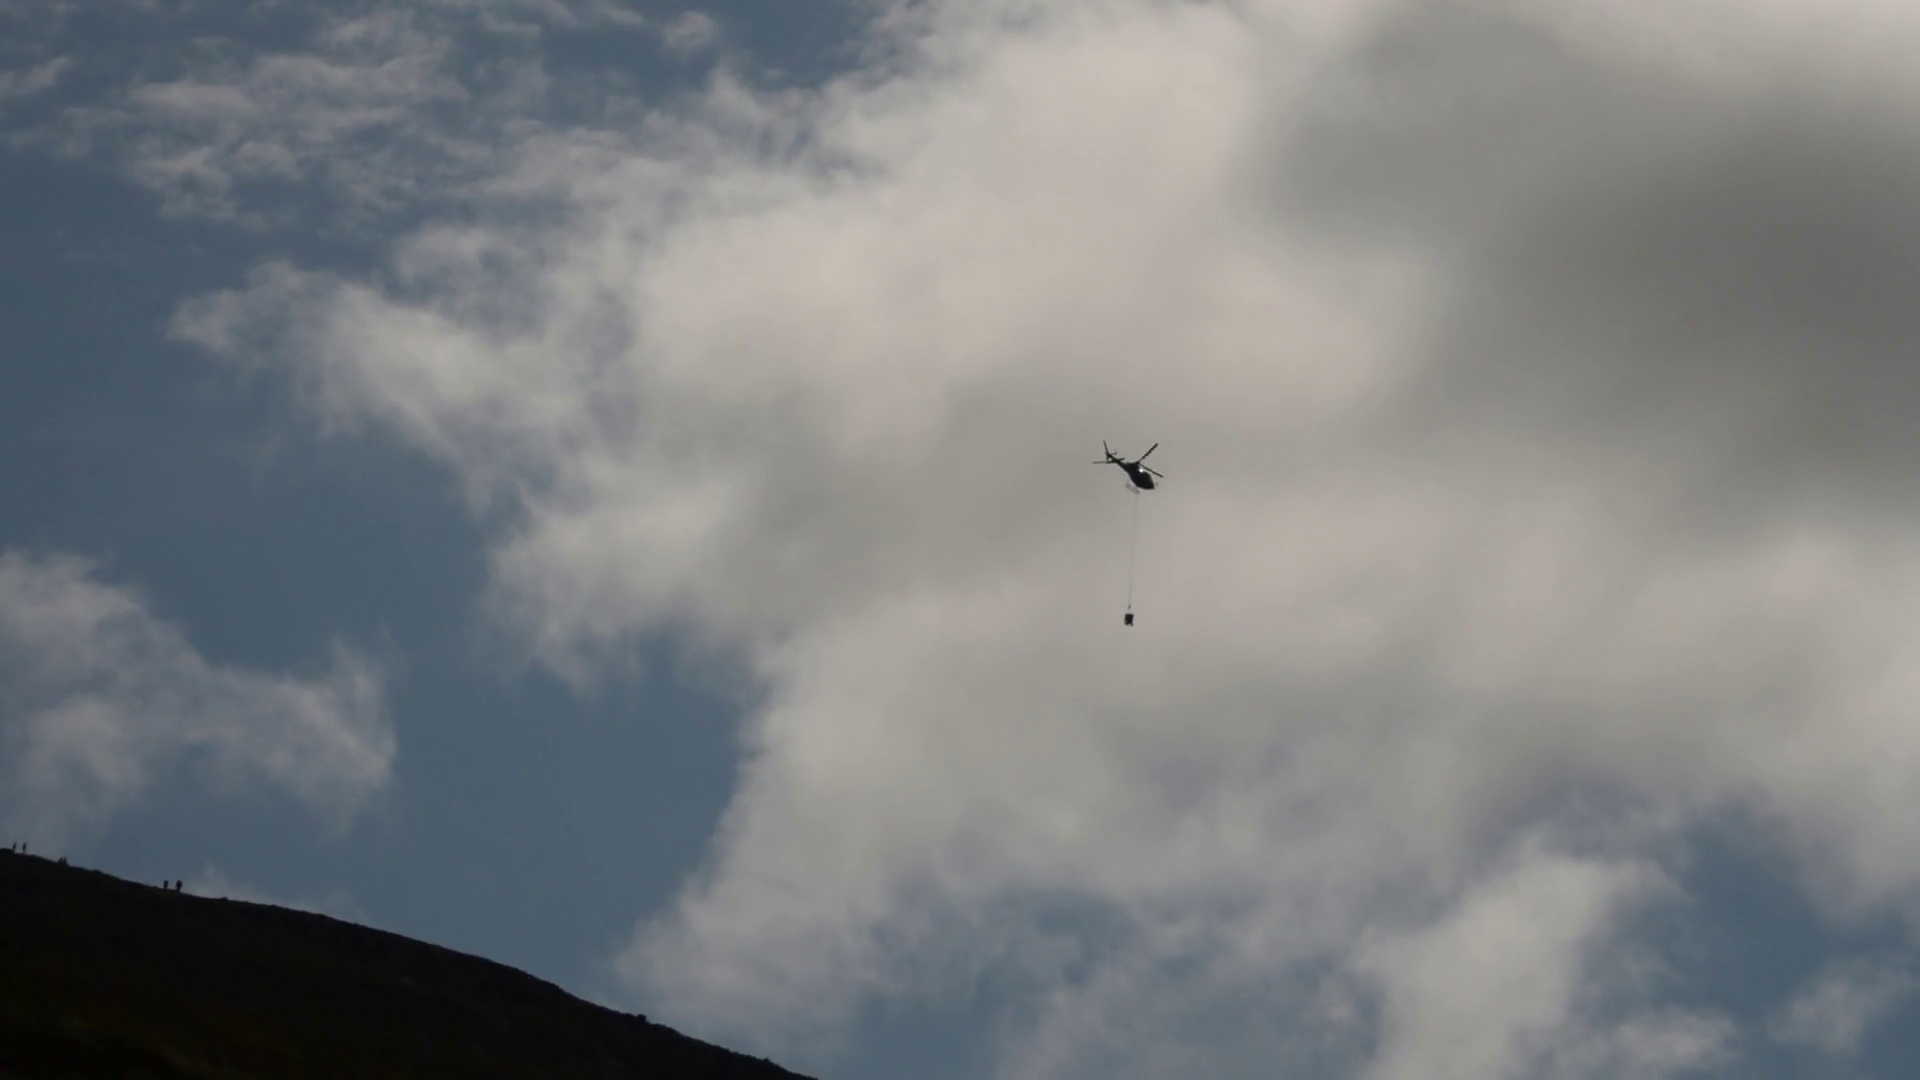heli: (1093, 435, 1164, 495)
